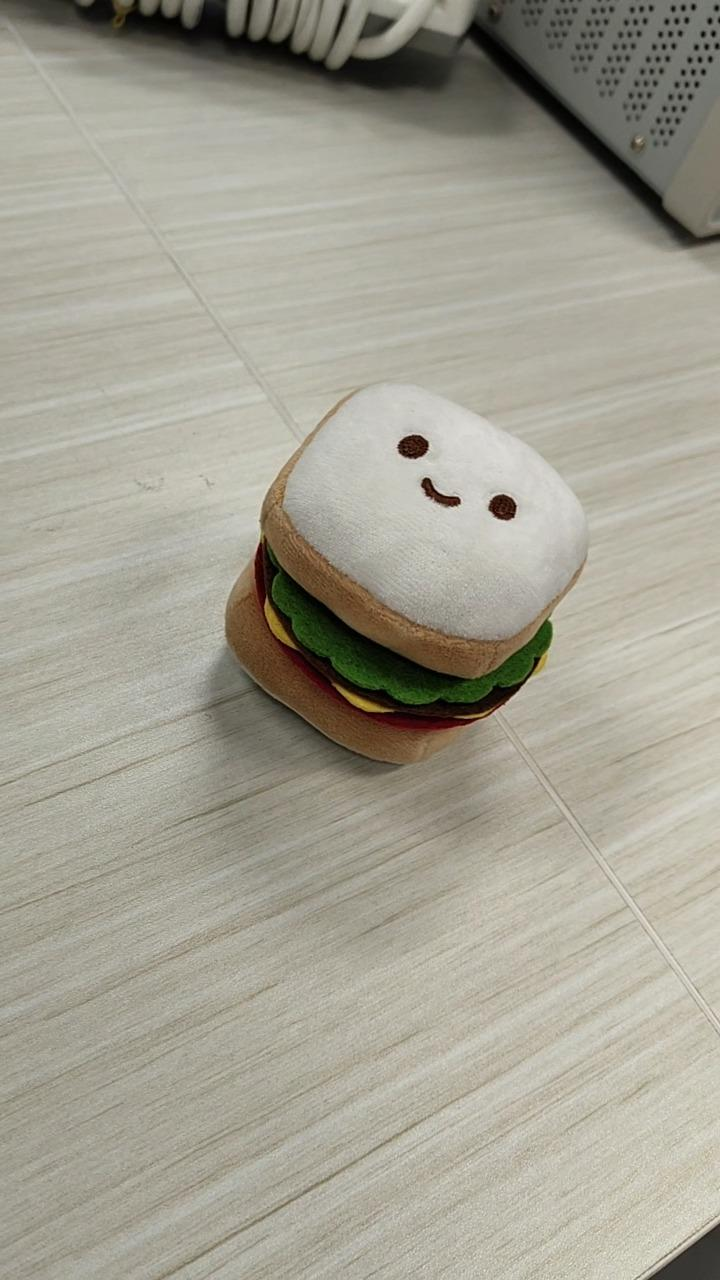objects: (223, 378, 589, 766)
